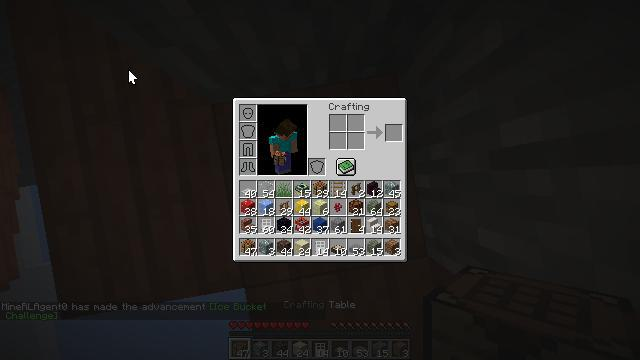cursor: (69, 128, 85, 138)
